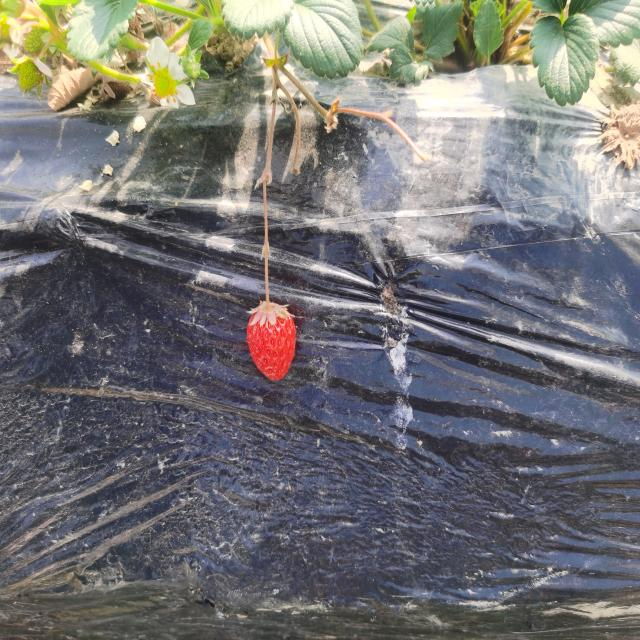stem: (265, 275, 272, 312)
strawberry: (246, 303, 295, 380)
